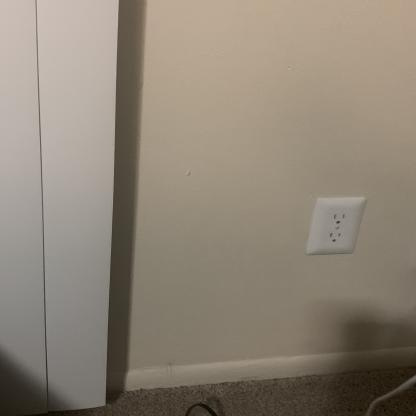OUTLET: (304, 197, 364, 255)
